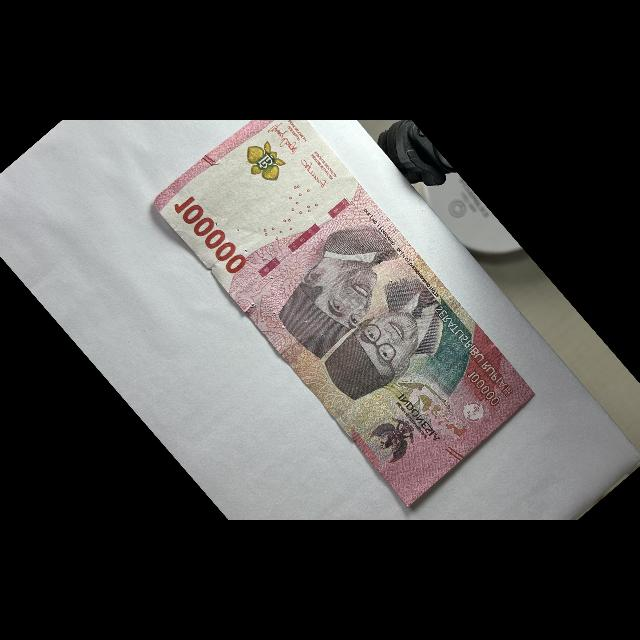Palsu-100k: (138, 90, 541, 512)
Tinta-Palsu-100k: (236, 135, 292, 192)
